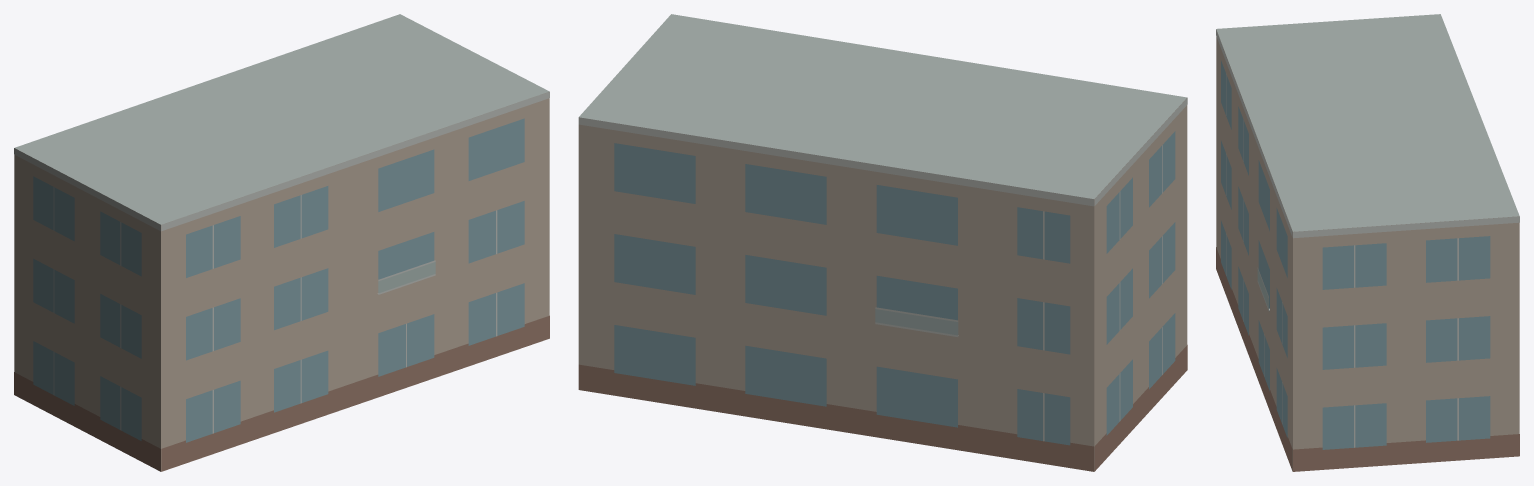
The model's file is survey-upis-32706525.glb.
The picture shows the model from 3 angles, left to right: view 1: azimuth 30°, elevation 25°; view 2: azimuth 150°, elevation 25°; view 3: azimuth 270°, elevation 25°; orthographic projection. The views are drawn at different scales.
Visible parts, largest first — view 1: survey-upis-32706525.tmp; view 2: survey-upis-32706525.tmp; view 3: survey-upis-32706525.tmp.
Part boxes in pixels (x1,y1,x2,y2): survey-upis-32706525.tmp: (14,14,549,471); survey-upis-32706525.tmp: (578,14,1187,471); survey-upis-32706525.tmp: (1216,14,1519,471).
Size of the model in its own units: 17.82 by 9.15 by 10.5.
